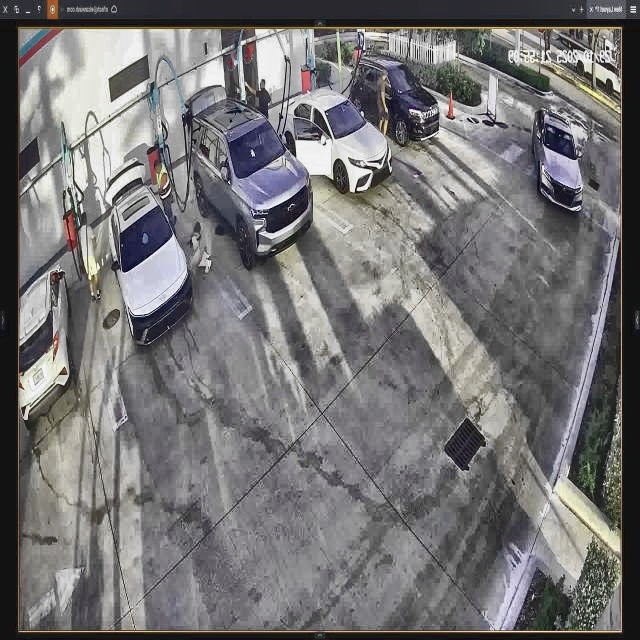Car: (191, 98, 307, 264), (108, 165, 190, 344), (280, 90, 389, 187), (348, 55, 440, 148)
